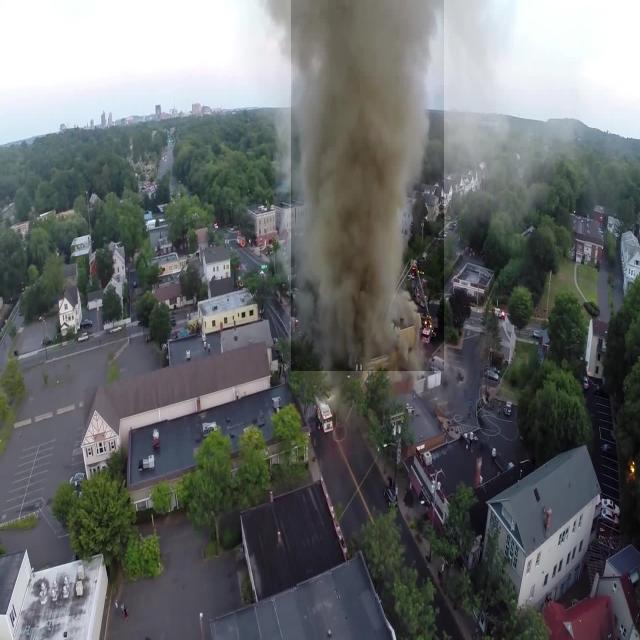Smoke: (291, 0, 444, 371)
